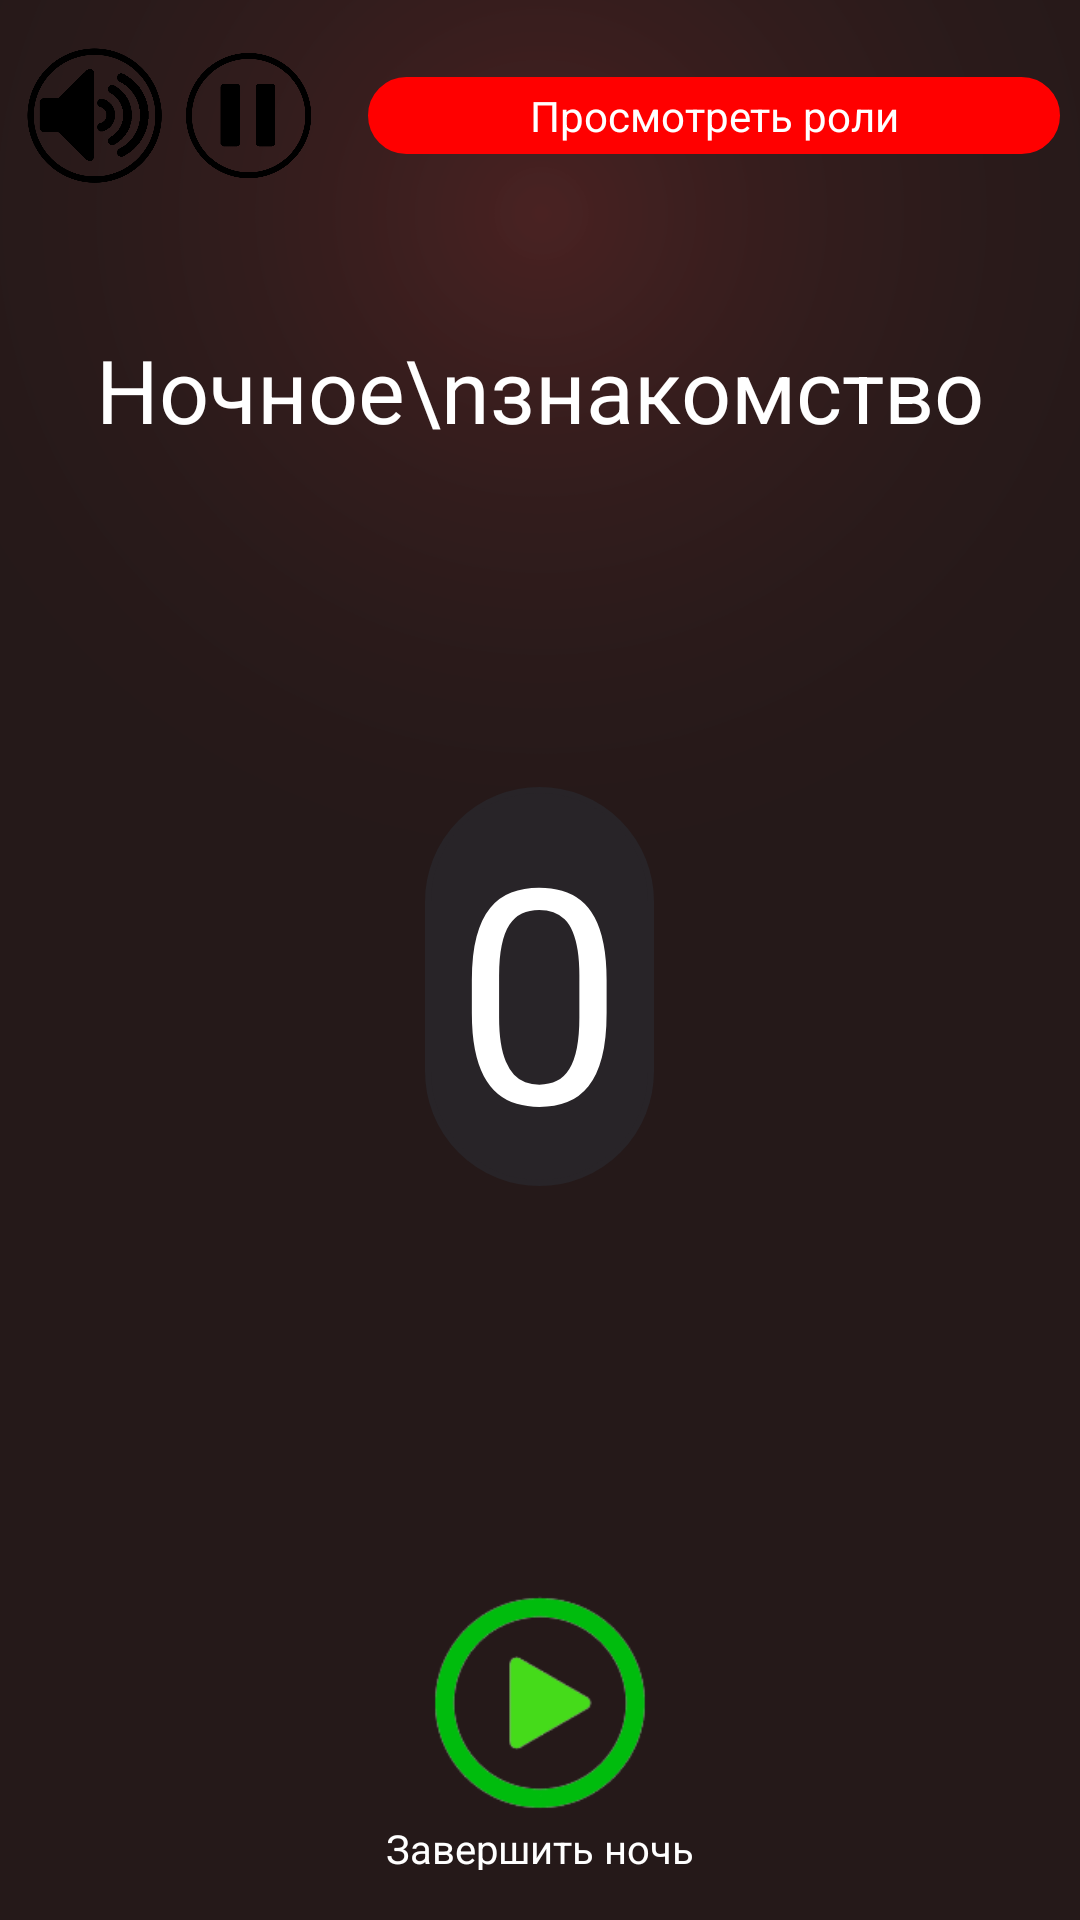

Where icons sit on this 1080w x 1920h app screen, as (x1, y1, x2, y2):
pause: (186, 53, 311, 178)
sound: (27, 48, 162, 183)
start: (435, 1598, 645, 1808)
